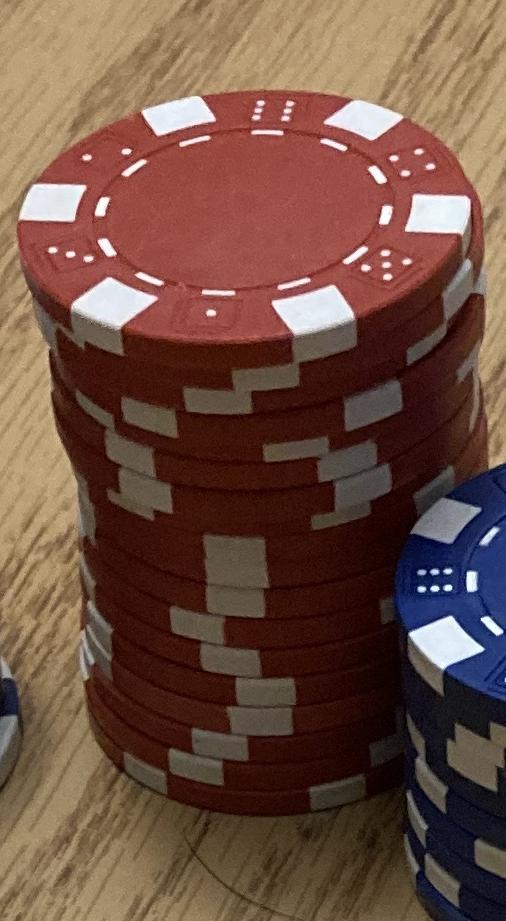Chip: (1, 1, 506, 921)
